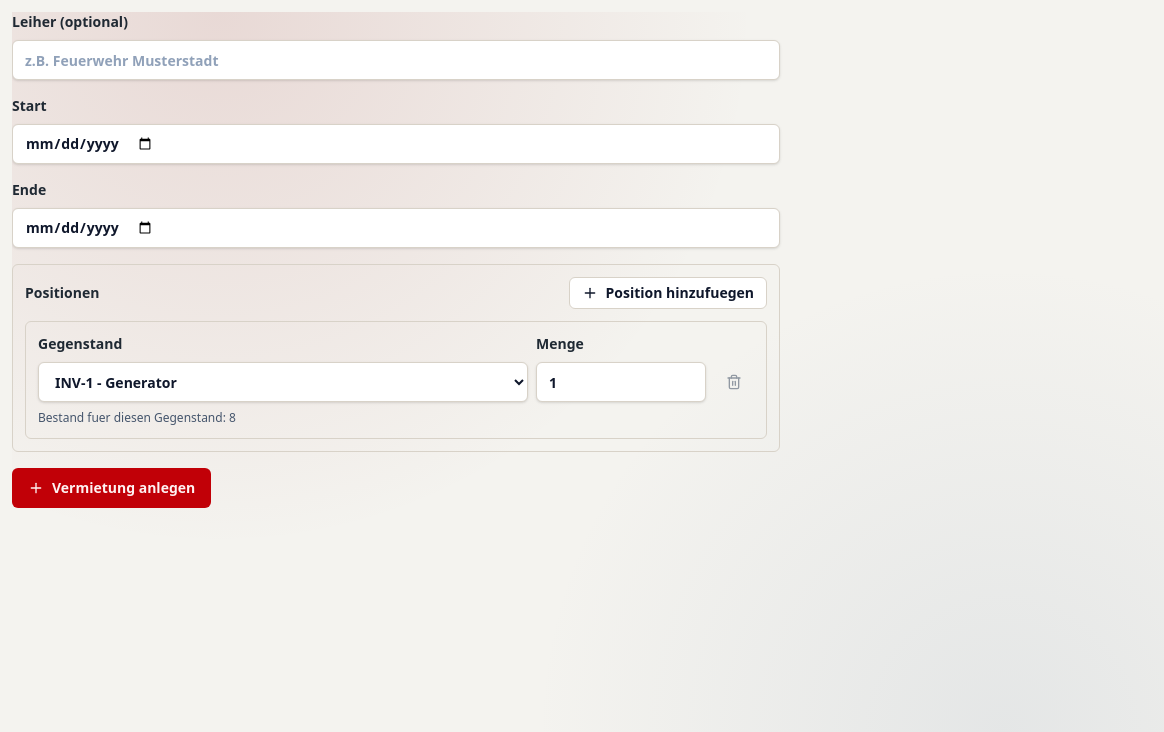
it: RentalBookingForm › blocks save when availability prevalidation fails
Type "2099-06-01" into the date field with test id "rental-start-input" at (396, 144), box [12,124,780,164]
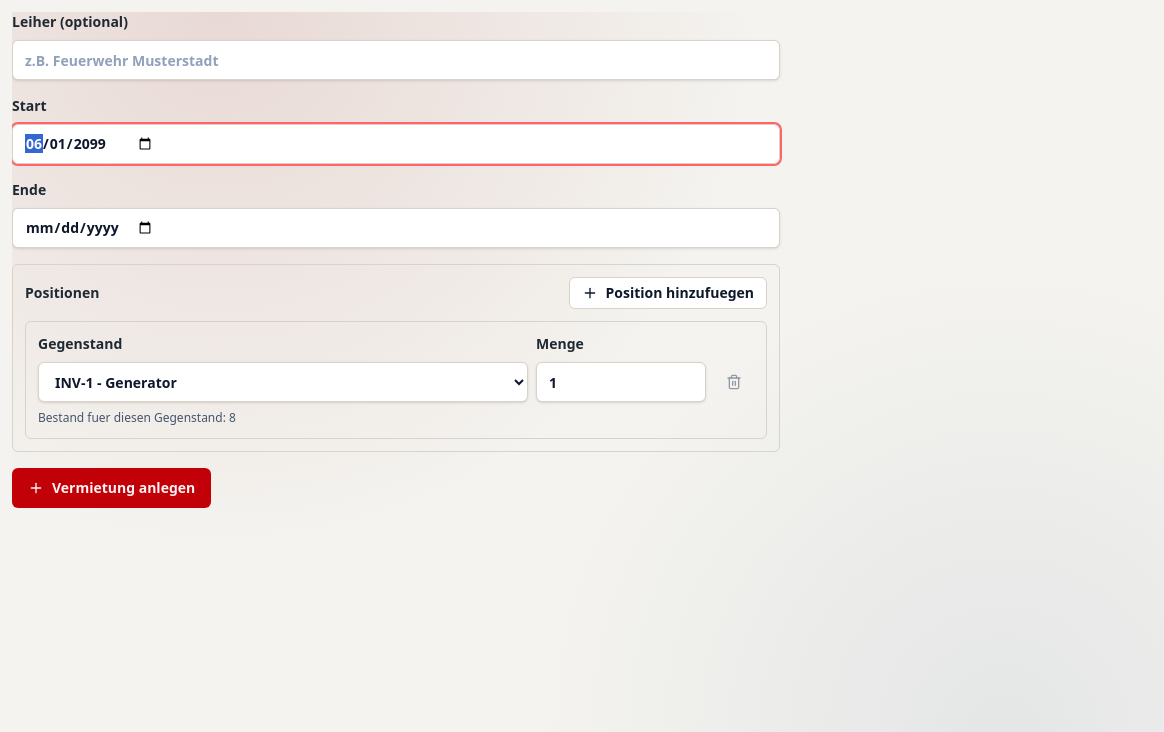
Type "2099-06-02" into the date field with test id "rental-end-input" at (396, 228), box [12,208,780,248]
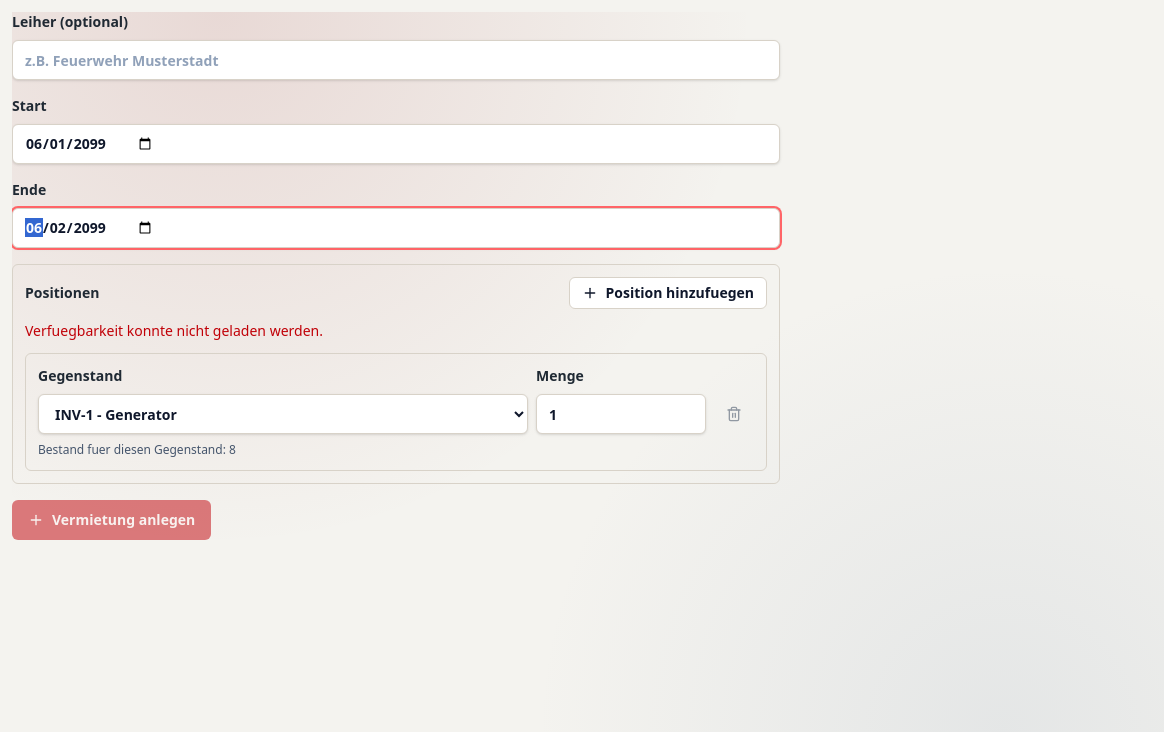
Check: the text "Verfuegbarkeit konnte nicht geladen werden." is shown, box [25,321,323,340]
Check: the button with test id "rental-submit-button" is disabled, box [12,500,211,540]
